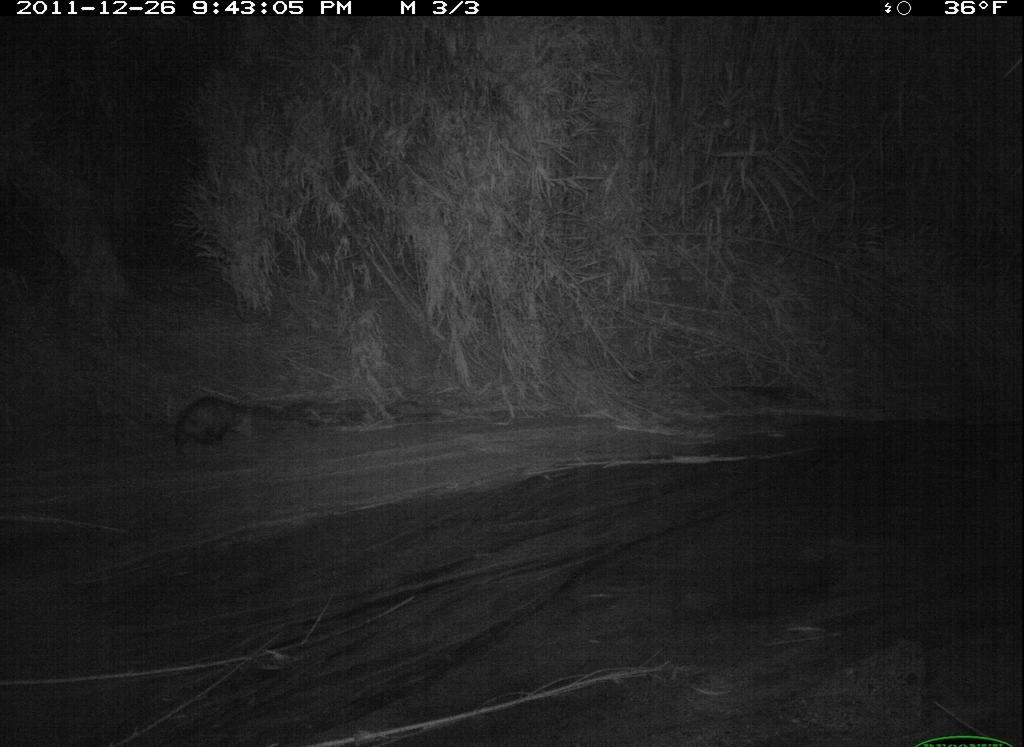opossum: (166, 392, 256, 461)
